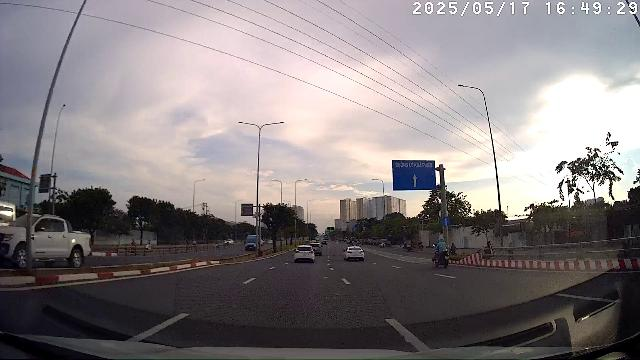301a-cac-xe-chi-duoc-di-thang: (441, 217, 451, 228)
